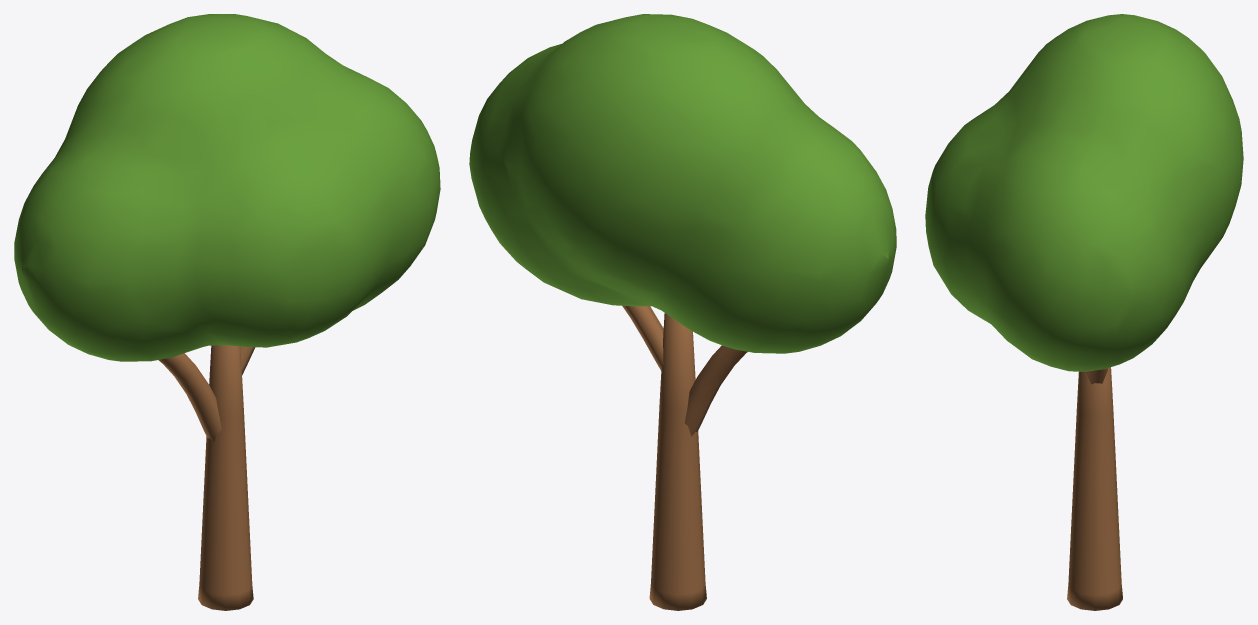
The model's file is GardenTree4m.fbx.
3 renders of one model, left to right at view 1: azimuth 30°, elevation 25°; view 2: azimuth 150°, elevation 25°; view 3: azimuth 270°, elevation 25°, orthographic. The views are drawn at different scales.
Visible parts, largest first — view 1: GardenTree4m_Foliage, GardenTree4m_Wood; view 2: GardenTree4m_Foliage, GardenTree4m_Wood; view 3: GardenTree4m_Foliage, GardenTree4m_Wood.
Boxes of the visible parts, x1,y1,x2,y2 form: GardenTree4m_Foliage: [14, 14, 440, 361]; GardenTree4m_Wood: [158, 345, 255, 610]; GardenTree4m_Foliage: [469, 14, 896, 353]; GardenTree4m_Wood: [622, 305, 747, 610]; GardenTree4m_Foliage: [925, 14, 1243, 371]; GardenTree4m_Wood: [1067, 367, 1122, 610].
Bounding box in the file's own units: 3.3 × 4.46 × 2.27.
